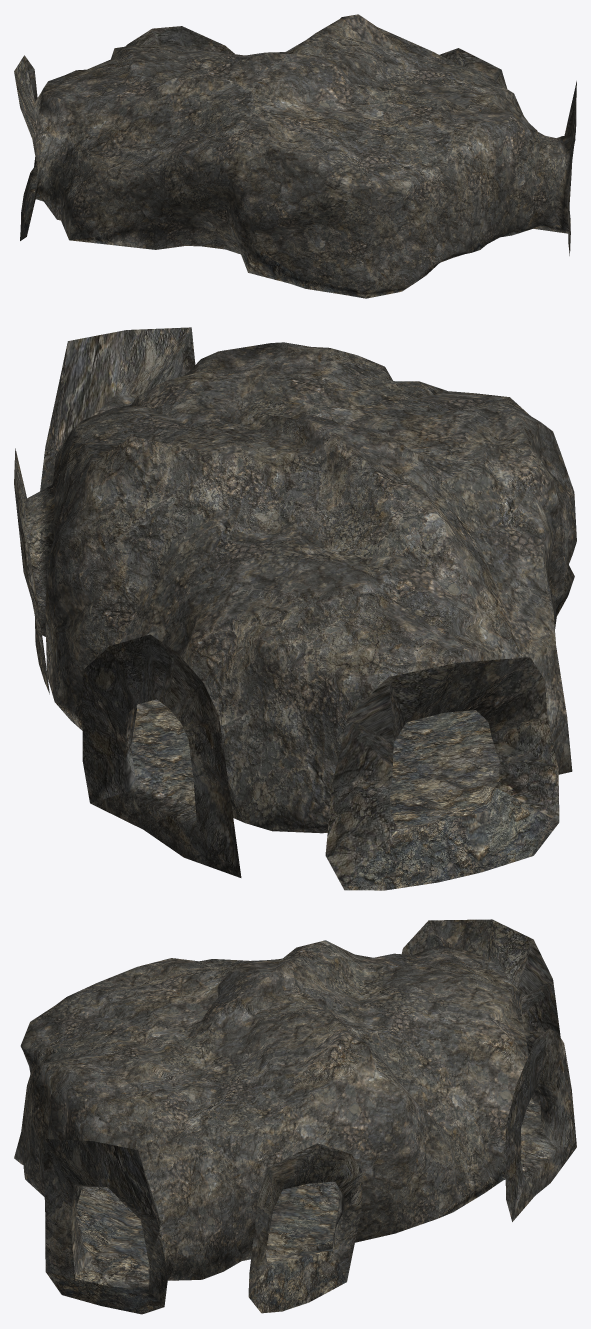
Rendered from Cave18.fbx.
The picture shows the model from 3 angles, top to bottom: view 1: azimuth 30°, elevation 25°; view 2: azimuth 150°, elevation 25°; view 3: azimuth 270°, elevation 25°; orthographic projection. The views are drawn at different scales.
Visible parts, largest first — view 1: Cave17:Cave7:Cave17; view 2: Cave17:Cave7:Cave17; view 3: Cave17:Cave7:Cave17.
Boxes of the visible parts, bbox=[...] form: Cave17:Cave7:Cave17: bbox=[14, 14, 576, 298]; Cave17:Cave7:Cave17: bbox=[14, 327, 576, 890]; Cave17:Cave7:Cave17: bbox=[14, 919, 576, 1314].
Bounding box in the file's own units: 263 × 112 × 246.
